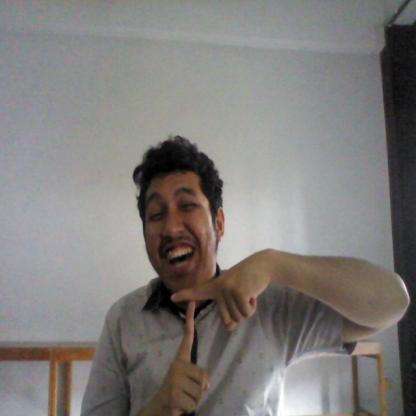T: (163, 246, 273, 414)
